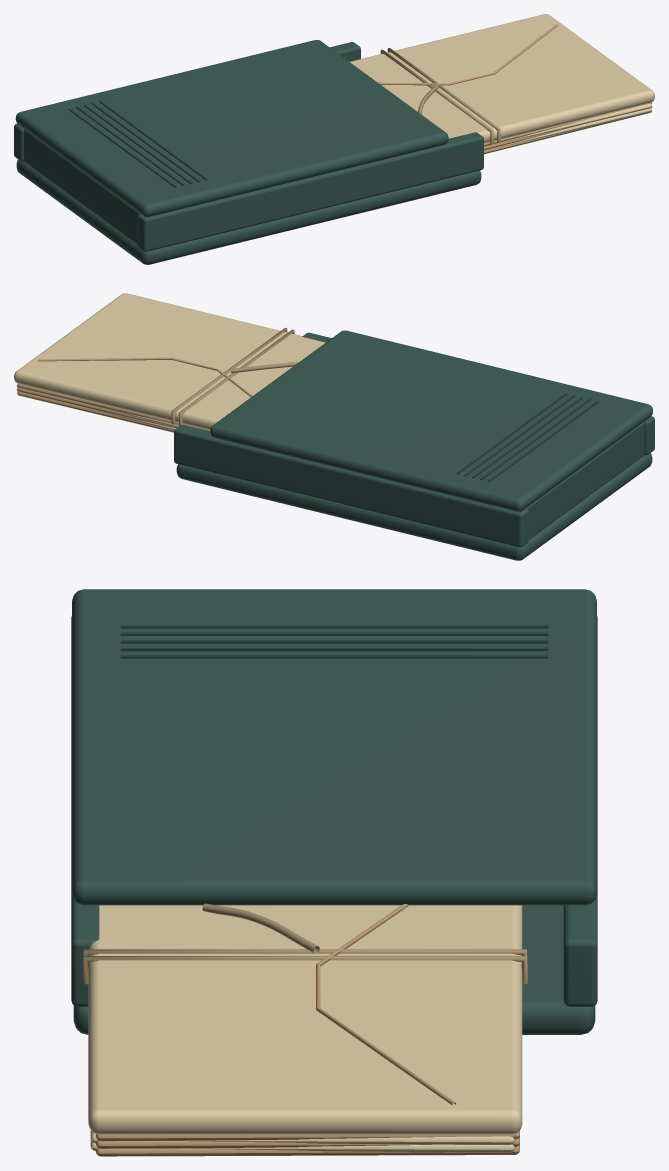
3 views of the same model, one above another, from view 1: azimuth 30°, elevation 25°; view 2: azimuth 150°, elevation 25°; view 3: azimuth 270°, elevation 25° (orthographic). The views are drawn at different scales.
Parts seen in each view (by area): view 1: Protective top, Protective folded paper flap, Sleeve wall, Conservation sleeve floor, Back stop, Sleeve wall.001, Layer of folded paper.003, Layer of folded paper.001, Linen strand.001, Paper fold, Linen strand, Layer of folded paper (+1 smaller); view 2: Protective top, Protective folded paper flap, Sleeve wall.001, Conservation sleeve floor, Back stop, Layer of folded paper.004, Layer of folded paper, Paper fold, Layer of folded paper.002, Linen strand.001, Sleeve wall, Linen strand; view 3: Protective top, Protective folded paper flap, Conservation sleeve floor, Sleeve wall.001, Layer of folded paper, Linen strand.001, Sleeve wall, Layer of folded paper.004, Linen strand, Fine border line.003, Layer of folded paper.003, Layer of folded paper.001 (+7 smaller).
Part boxes in pixels (box(x1,y1,x2,y2)): Protective top: box(15, 40, 448, 216); Protective folded paper flap: box(349, 14, 654, 143); Sleeve wall: box(137, 132, 483, 251); Conservation sleeve floor: box(16, 159, 481, 264); Back stop: box(24, 129, 139, 243); Sleeve wall.001: box(14, 42, 360, 161); Layer of folded paper.003: box(484, 103, 651, 146); Layer of folded paper.001: box(484, 108, 651, 150); Linen strand.001: box(387, 48, 500, 142); Paper fold: box(378, 24, 557, 85); Linen strand: box(380, 49, 493, 143); Layer of folded paper: box(484, 110, 651, 154); Protective top: box(210, 330, 652, 511); Protective folded paper flap: box(14, 293, 325, 430); Sleeve wall.001: box(174, 425, 528, 547); Conservation sleeve floor: box(176, 453, 652, 560); Back stop: box(526, 421, 644, 539); Layer of folded paper.004: box(17, 383, 209, 431); Layer of folded paper: box(17, 391, 174, 432); Paper fold: box(38, 357, 252, 397); Layer of folded paper.002: box(17, 387, 177, 428); Linen strand.001: box(171, 328, 287, 424); Sleeve wall: box(302, 332, 654, 455); Linen strand: box(178, 329, 294, 425); Protective top: box(72, 589, 596, 905); Protective folded paper flap: box(88, 905, 522, 1134); Conservation sleeve floor: box(73, 905, 595, 1034); Sleeve wall.001: box(563, 616, 597, 1006); Layer of folded paper: box(95, 1143, 519, 1156); Linen strand.001: box(82, 956, 527, 984); Sleeve wall: box(71, 616, 99, 1006); Layer of folded paper.004: box(95, 1130, 519, 1141); Linen strand: box(82, 949, 527, 976); Fine border line.003: box(120, 647, 548, 651); Layer of folded paper.003: box(90, 1130, 514, 1144); Layer of folded paper.001: box(90, 1139, 514, 1152).
Size of the model in its own units: 0.3 by 0.0346 by 0.1323.
